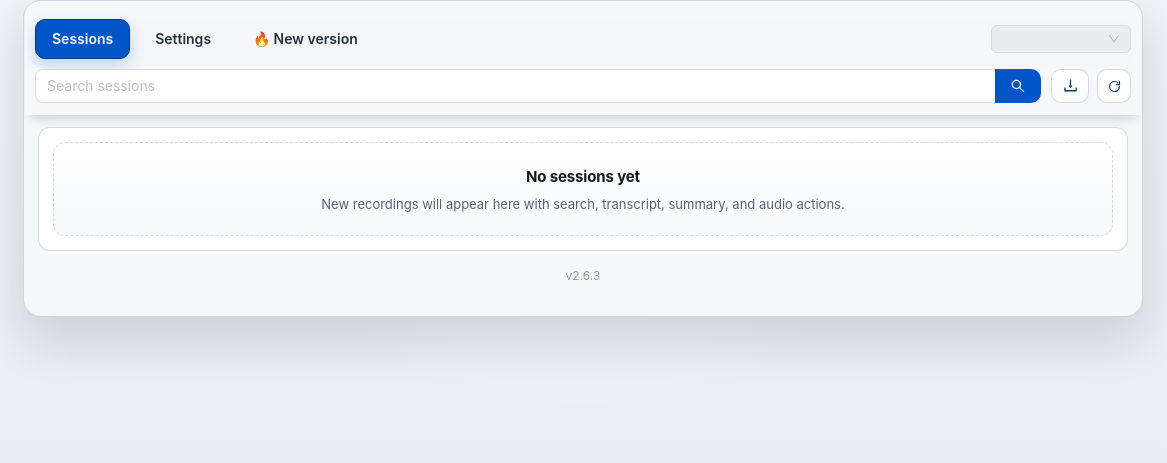
Scenario: App main window › shows the New version tab when check_for_update reports a newer release
Click the tab "🔥 New version". click: (306, 39)
box: [236,19,375,59]
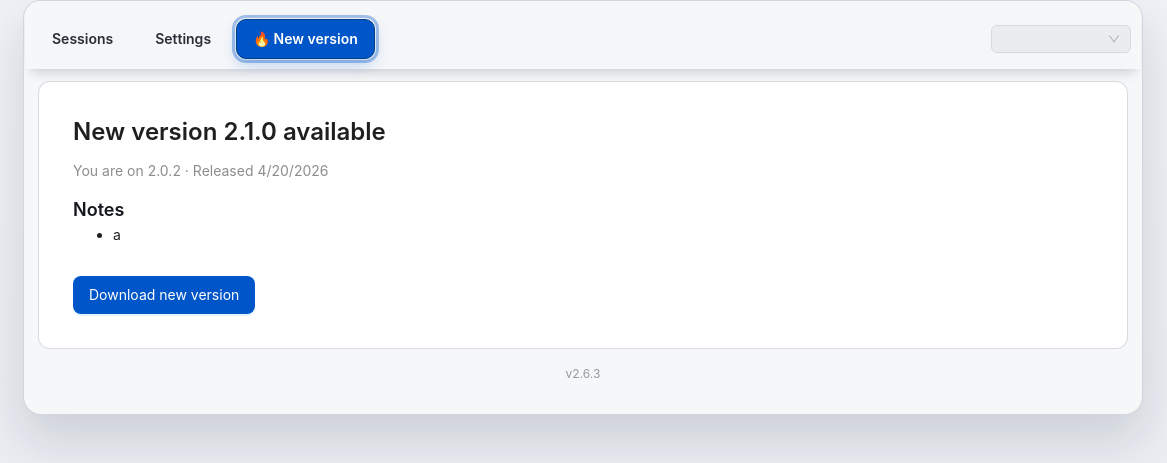
Expected: the heading "New version 2.1.0 available" is shown, [73,117,386,146]
